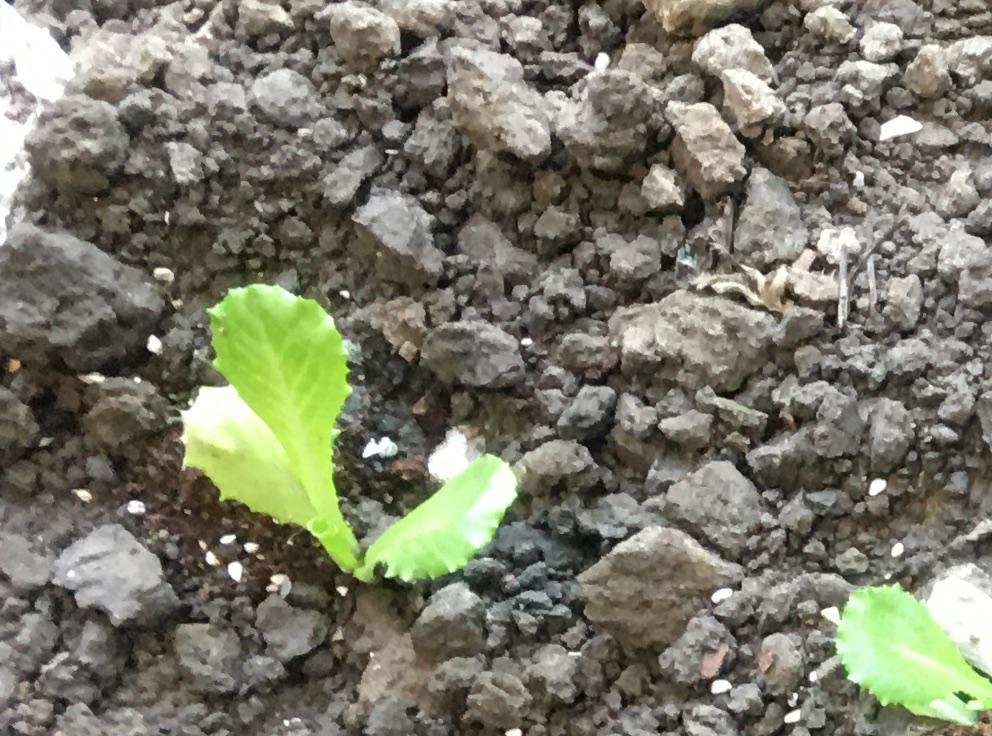block: (1, 222, 161, 377), (574, 522, 748, 655), (607, 288, 783, 403), (47, 522, 181, 638), (442, 40, 555, 166), (560, 67, 669, 176)
